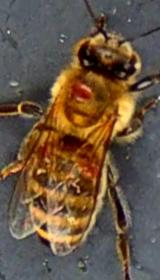varroa_mite: (70, 144, 110, 190), (61, 72, 89, 111)
